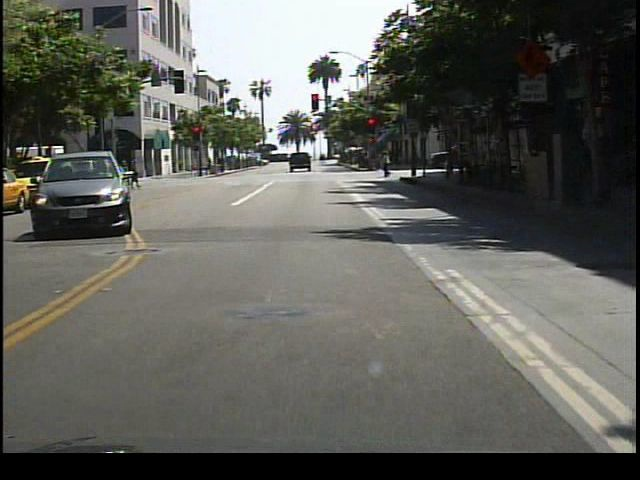person: (410, 144, 425, 174), (379, 151, 395, 178)
